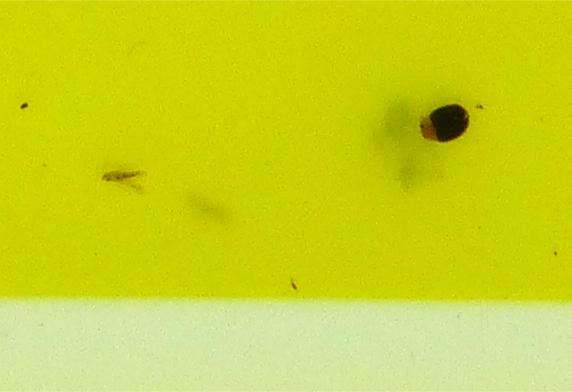Coleoptera: (417, 100, 472, 143)
Hemiptera: (100, 166, 148, 188)
